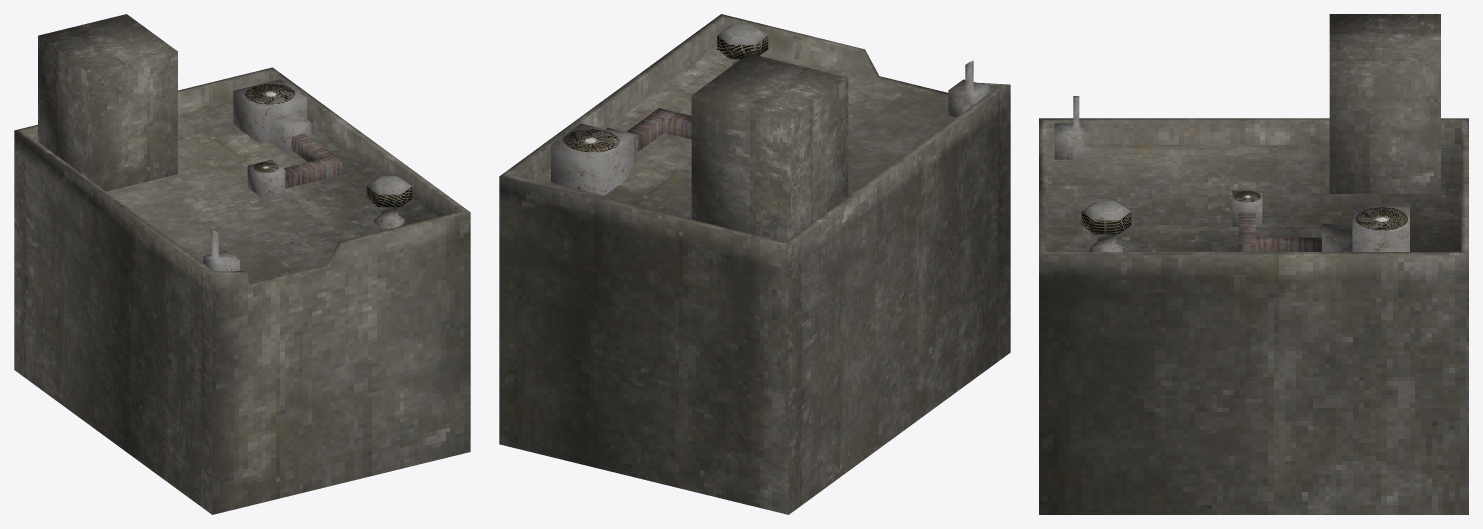
File: industrial_roof.glb
3 views of the same model, side by side, from view 1: azimuth 30°, elevation 25°; view 2: azimuth 150°, elevation 25°; view 3: azimuth 270°, elevation 25° (orthographic). The views are drawn at different scales.
Parts seen in each view (by area): view 1: Cube; view 2: Cube; view 3: Cube.
Boxes of the visible parts, x1,y1,x2,y2 form: Cube: [14, 14, 470, 514]; Cube: [499, 14, 1010, 514]; Cube: [1039, 14, 1468, 514].
Bounding box in the file's own units: 2.99 × 3.77 × 3.97.
1 material, 1 textured.
